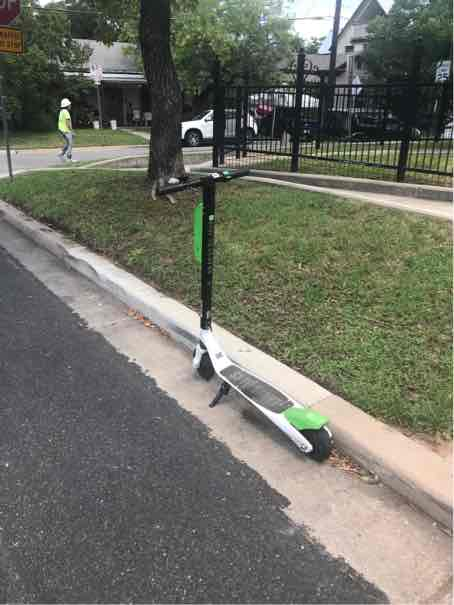scooter: (147, 157, 340, 471)
